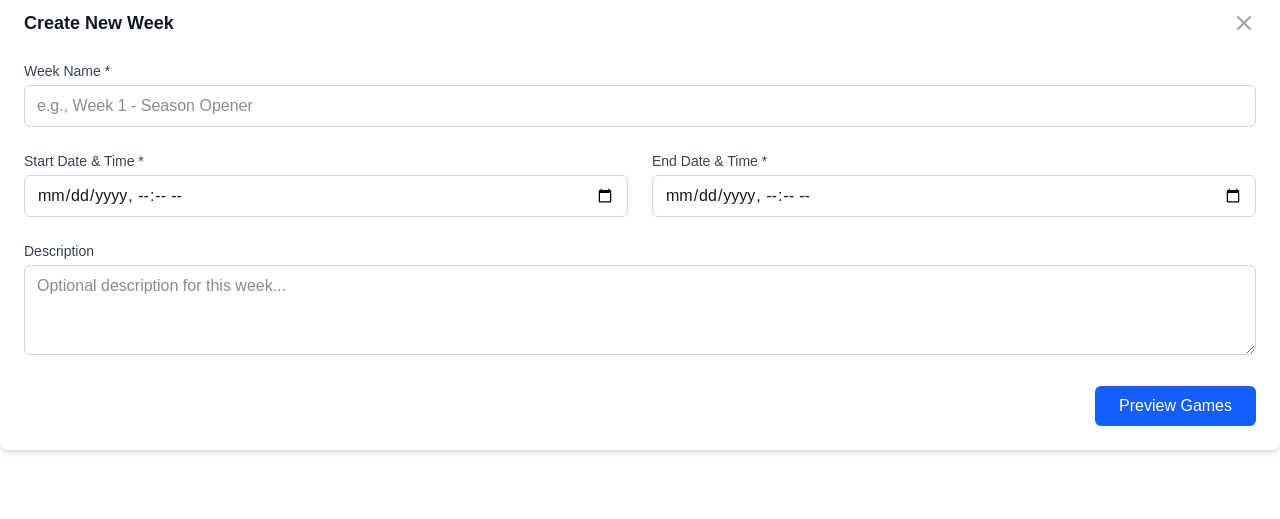
Test: WeekCreationWizard › Form Step › should clear field errors when user types
Note: Trigger validation errors
Click the button "Preview Games" at [1176, 406], box [1095, 386, 1256, 426]
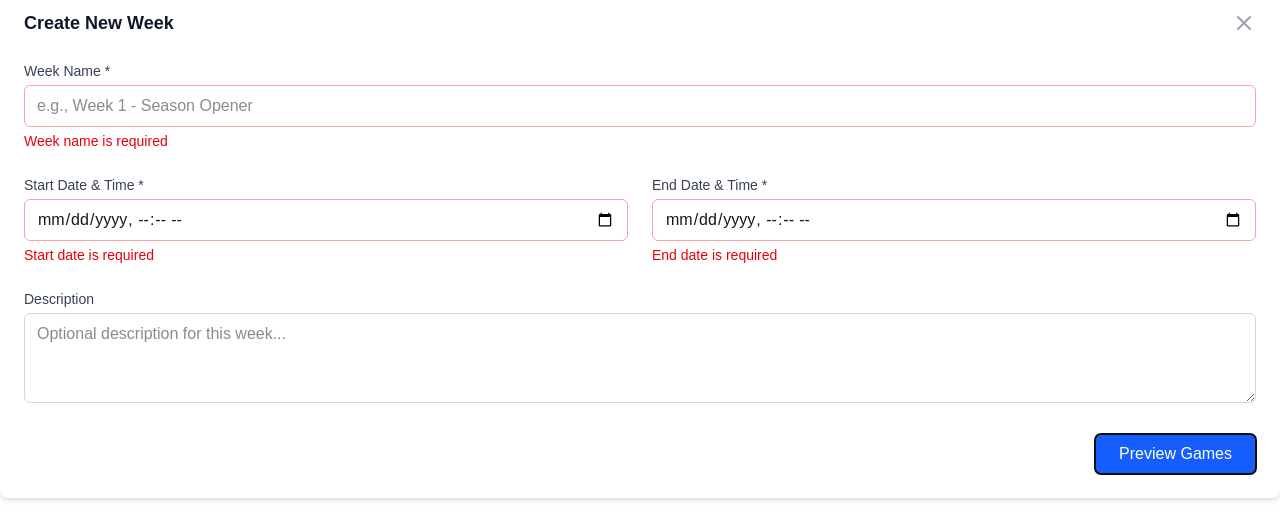
Expected: the text "Week name is required" is shown, [24, 133, 168, 149]
Note: Type in the field to clear error
Type "Week 1" into the field labelled "Week Name *" at [640, 106], box [24, 85, 1256, 127]
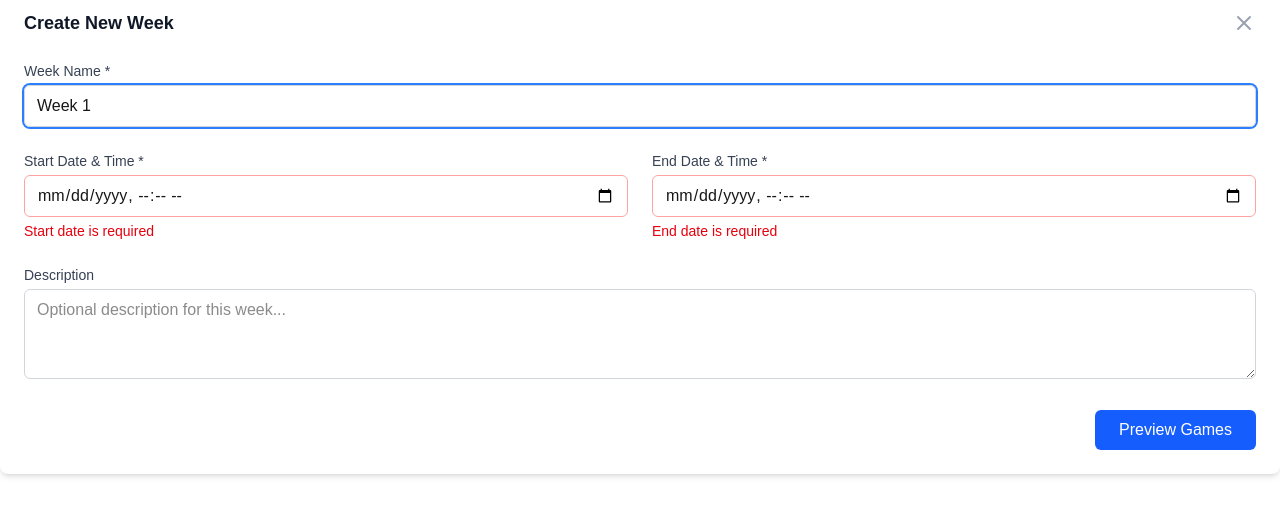
Expected: the text "Week name is required" is gone
